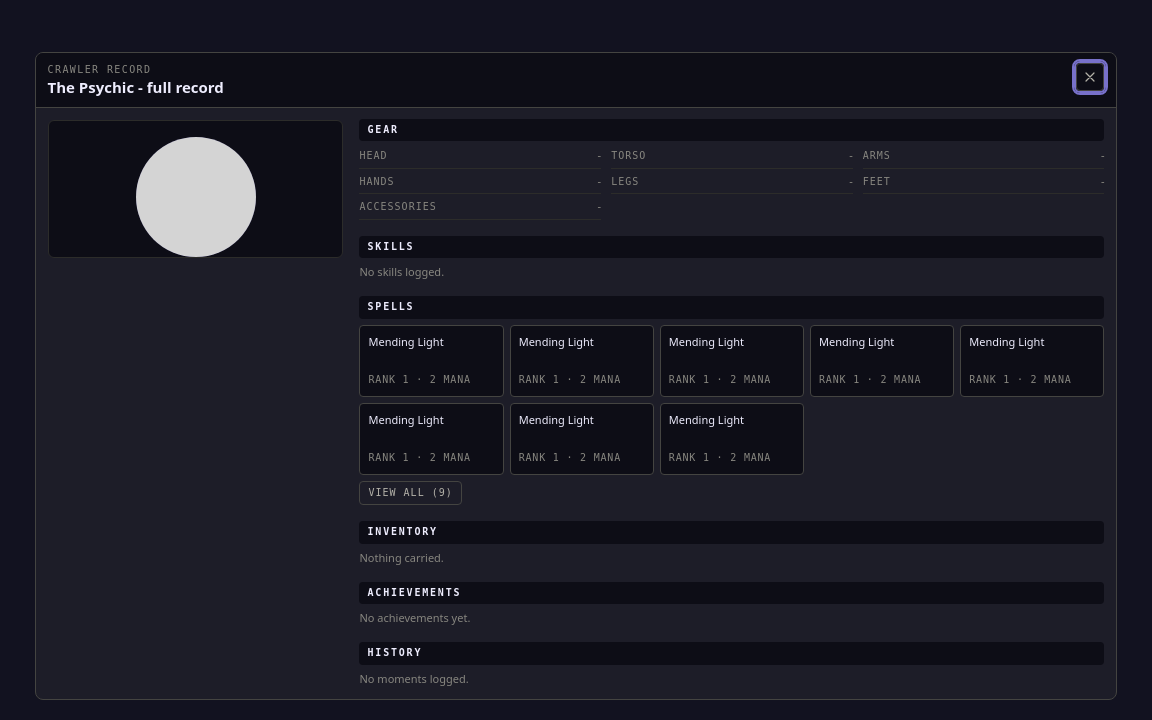
Test: FullRecordDialog - registry-backed spells (008 revision 4) › prints the same fields in the spells list view, with no tooltip needed
(page scrolled)
Click the button with test id "view-all-spells": {"x": 411, "y": 493} left=360, top=481, right=462, bottom=505
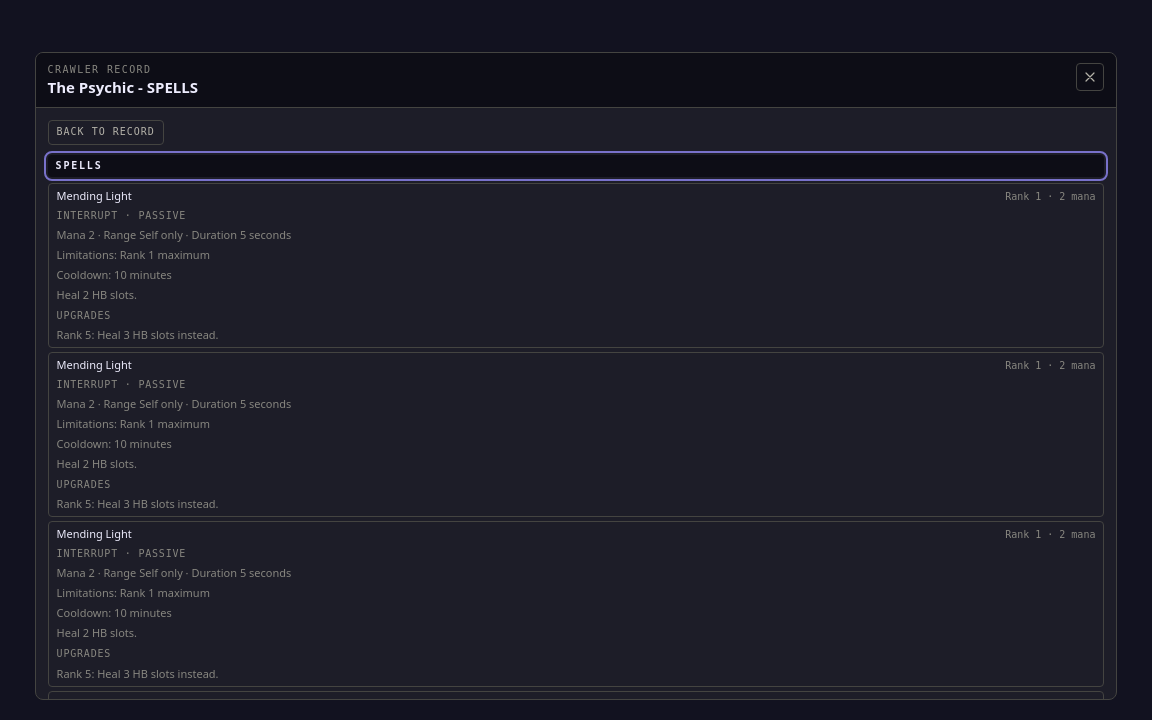
expect the 1st list item shows "Interrupt · Passive": met, box left=57, top=210, right=186, bottom=220
expect the 1st list item shows "Mana 2": met, box left=57, top=227, right=291, bottom=242
expect the 1st list item shows "Heal 2 HB slots.": met, box left=57, top=287, right=137, bottom=302
